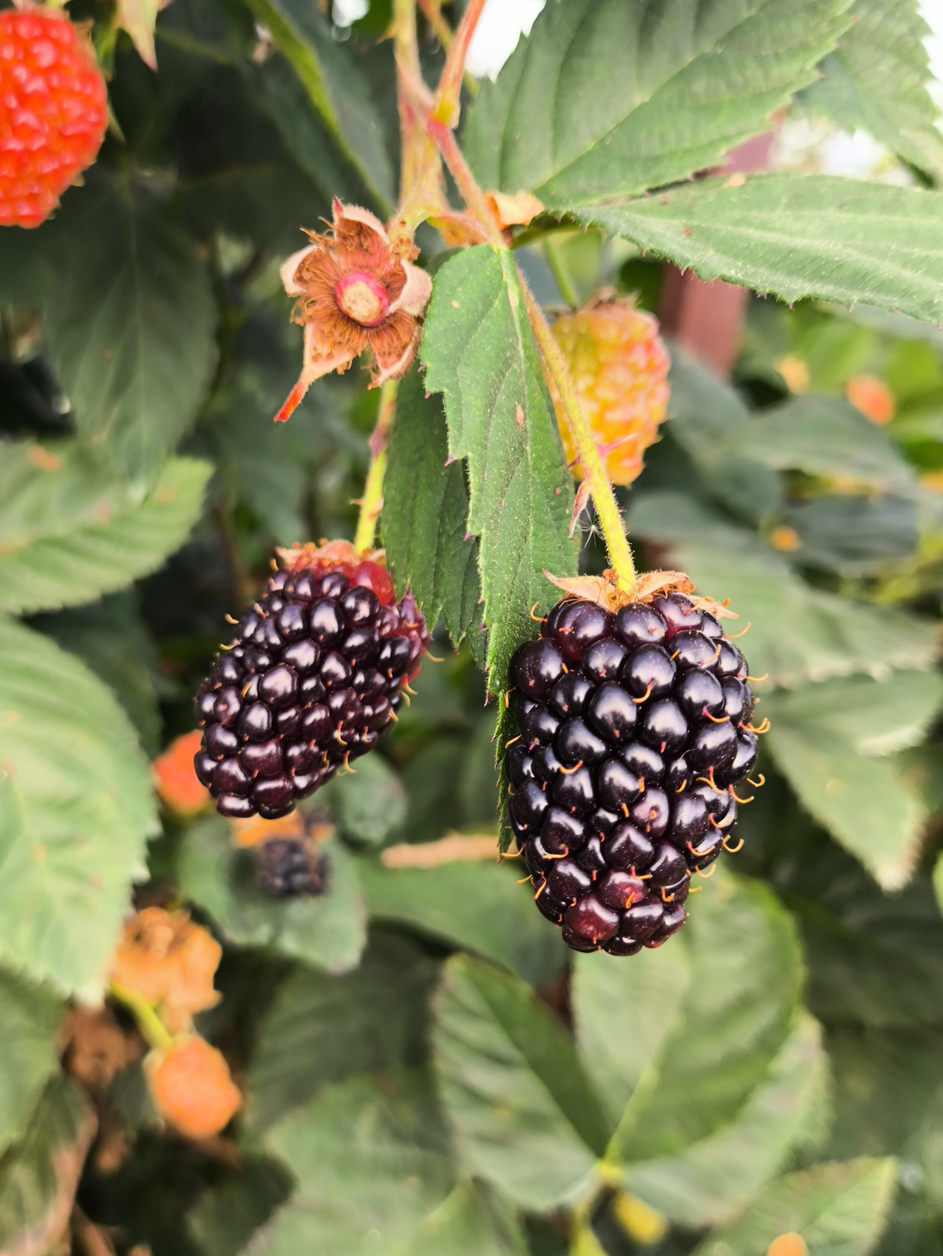marron: (504, 598, 754, 949), (202, 547, 416, 814)
